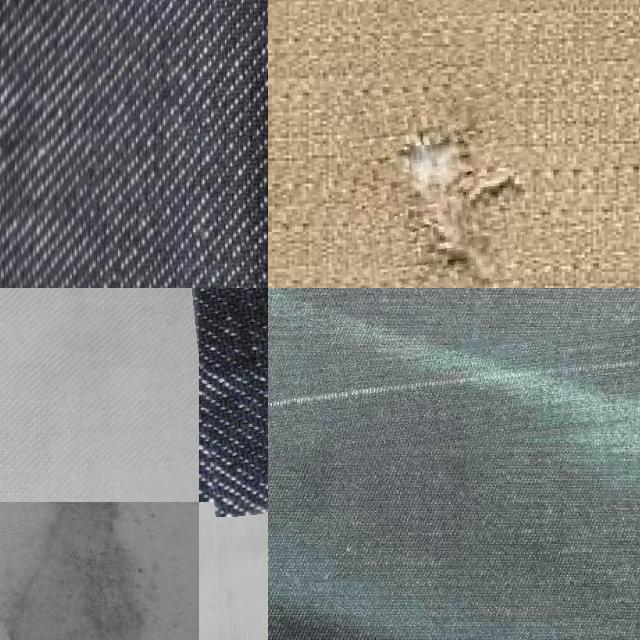Thread_other: (0, 502, 199, 640)
other: (343, 88, 523, 288)
stains: (268, 335, 640, 470)
